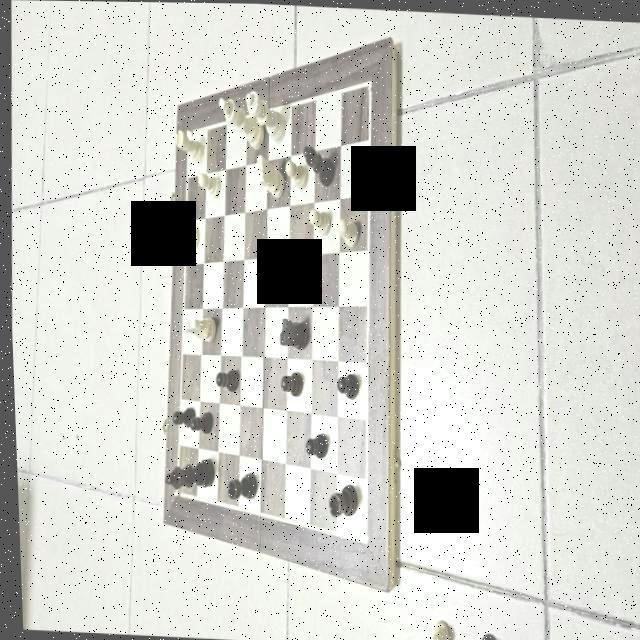chess-table-corners: (358, 532, 366, 544), (365, 75, 373, 87), (170, 488, 176, 494), (185, 127, 191, 133)
